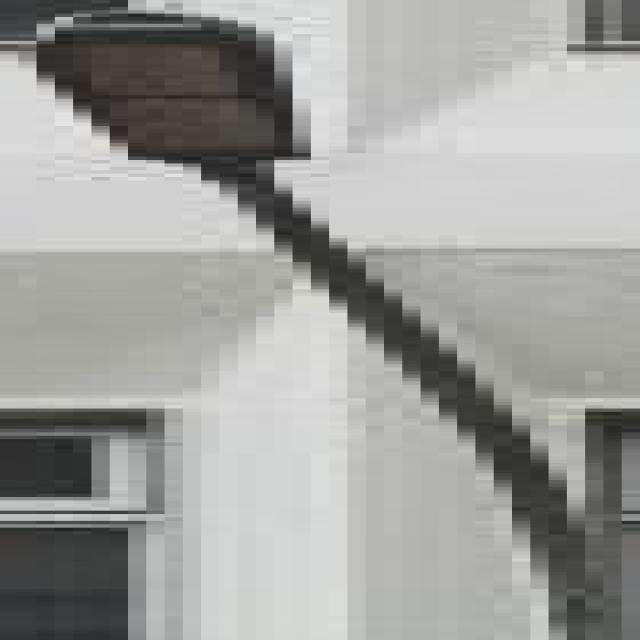street light: (18, 3, 640, 640)
